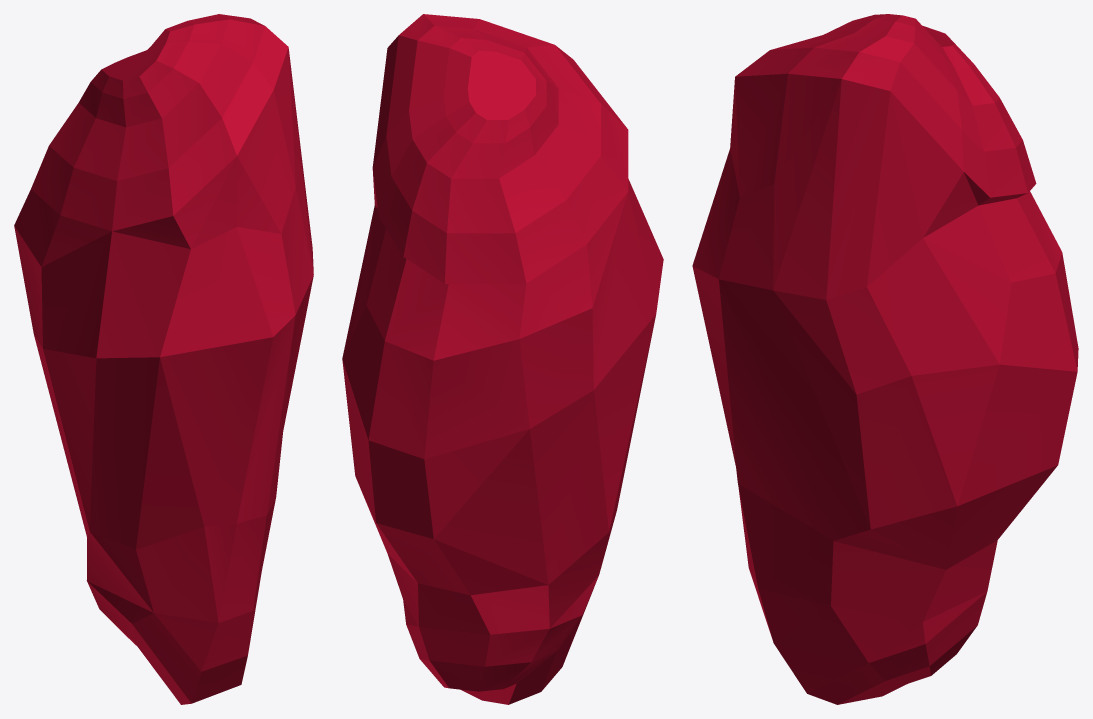
The model's file is right_thigh.fbx.
3 renders of one model, left to right at view 1: azimuth 30°, elevation 25°; view 2: azimuth 150°, elevation 25°; view 3: azimuth 270°, elevation 25°, orthographic. The views are drawn at different scales.
Parts seen in each view (by area): view 1: right_thigh; view 2: right_thigh; view 3: right_thigh.
Boxes of the visible parts, left/top/right/bottom form: right_thigh: left=14, top=14, right=313, bottom=704; right_thigh: left=342, top=14, right=663, bottom=704; right_thigh: left=692, top=14, right=1078, bottom=704.
Bounding box in the file's own units: 0.2095 × 0.5496 × 0.2802.
